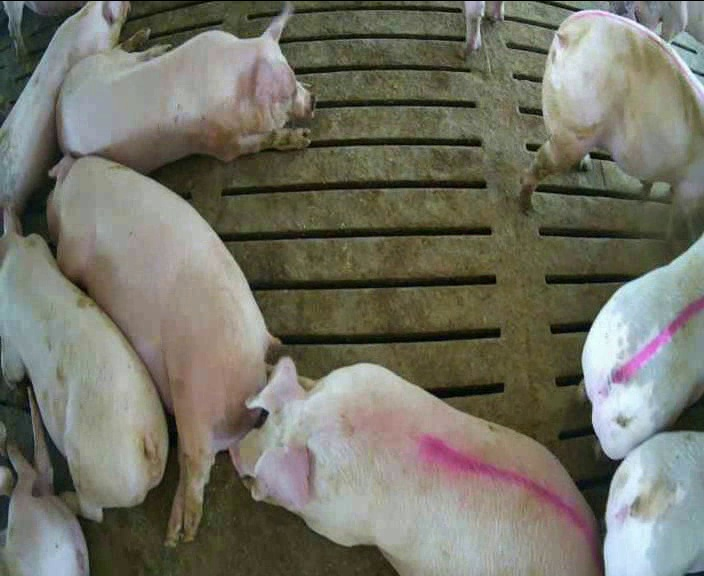pig: (48, 155, 273, 542), (229, 357, 599, 573), (521, 11, 703, 251), (57, 6, 312, 172), (577, 235, 703, 458), (0, 2, 127, 211), (604, 431, 703, 574)
